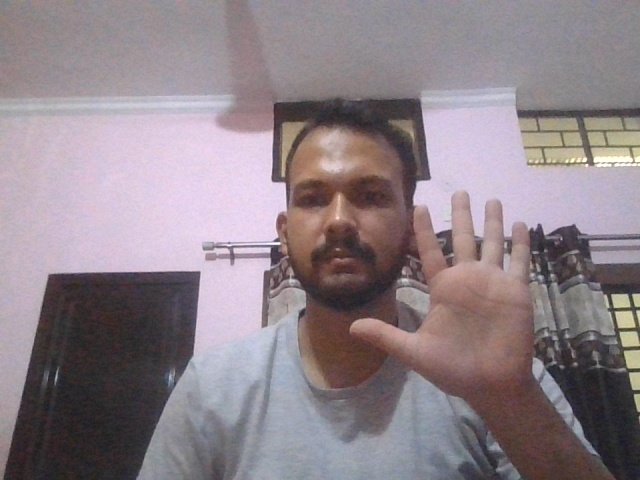hello: (349, 188, 560, 407)
